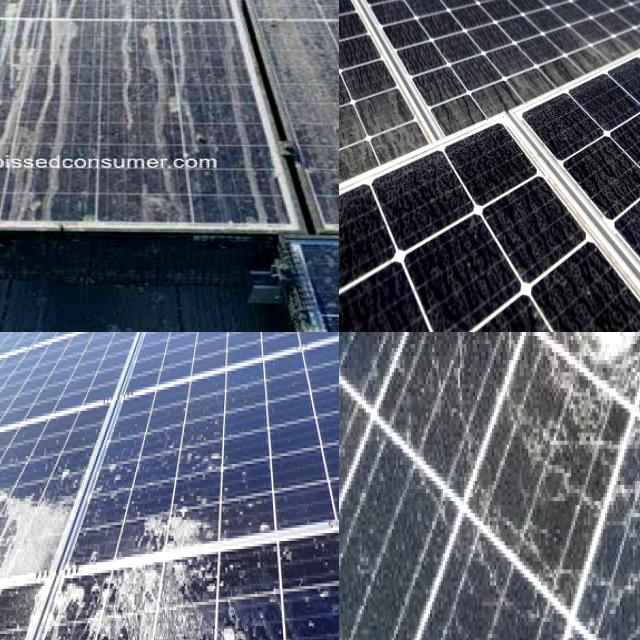bird: (242, 0, 339, 216), (86, 28, 219, 162), (1, 0, 86, 189), (93, 572, 180, 640), (0, 469, 51, 568), (142, 486, 204, 550), (122, 0, 240, 29), (0, 438, 28, 513), (48, 594, 92, 640), (0, 40, 14, 174), (211, 609, 255, 640), (0, 0, 17, 38)
dust: (339, 167, 438, 275), (589, 101, 640, 258), (339, 41, 385, 169), (425, 23, 488, 116), (502, 210, 576, 278), (519, 0, 581, 77), (544, 278, 623, 332), (454, 140, 524, 198), (362, 72, 402, 160), (339, 297, 420, 332), (447, 278, 491, 332), (601, 0, 640, 44)
hotspot: (537, 490, 640, 606), (560, 332, 640, 474)
